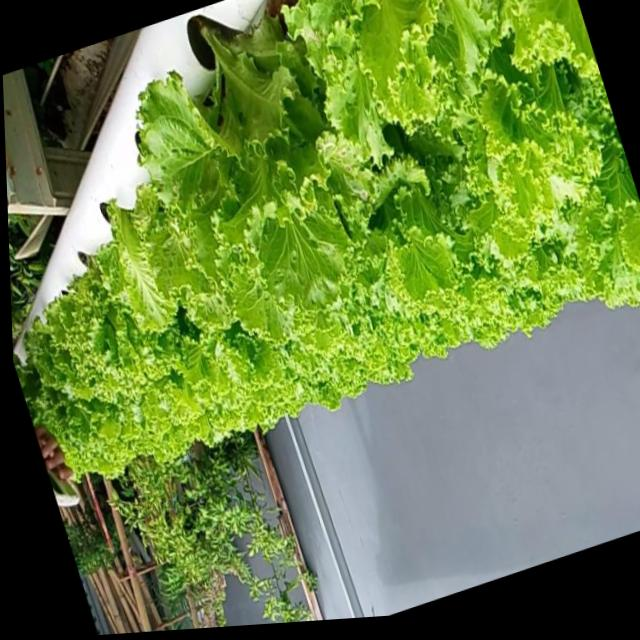Mature: (135, 8, 359, 335), (45, 237, 166, 400)
